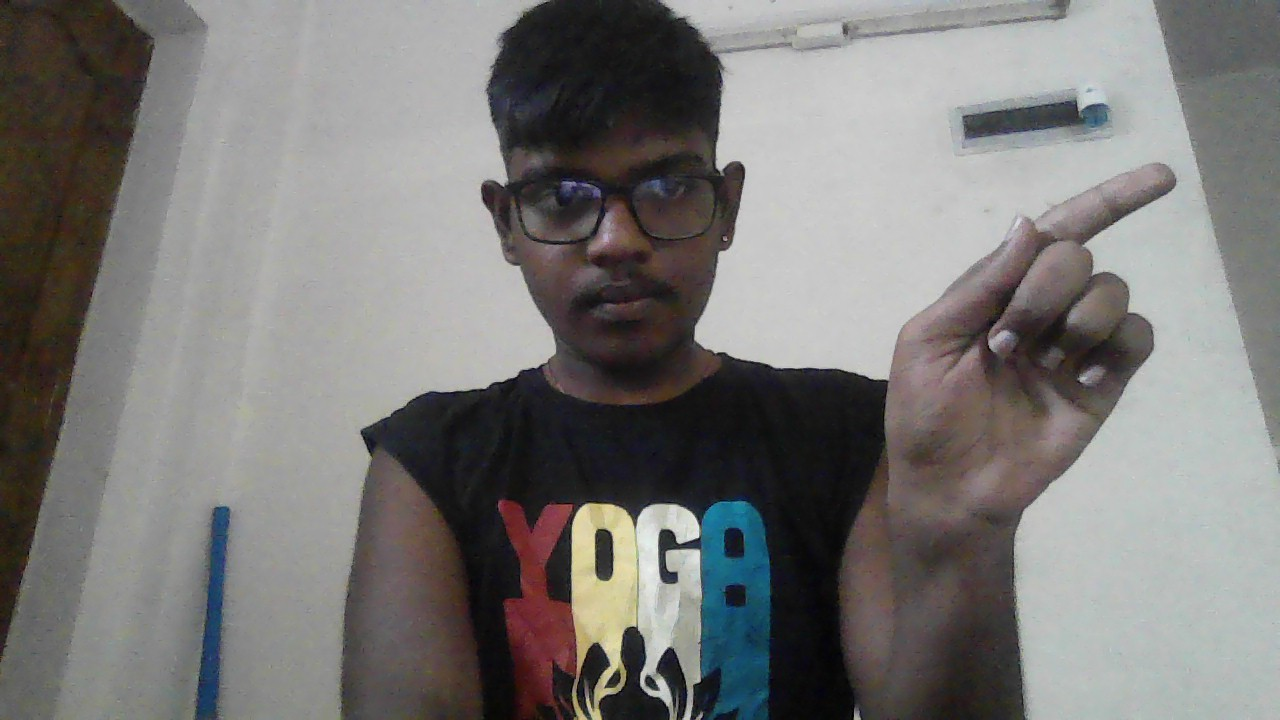G: (884, 163, 1176, 527)
